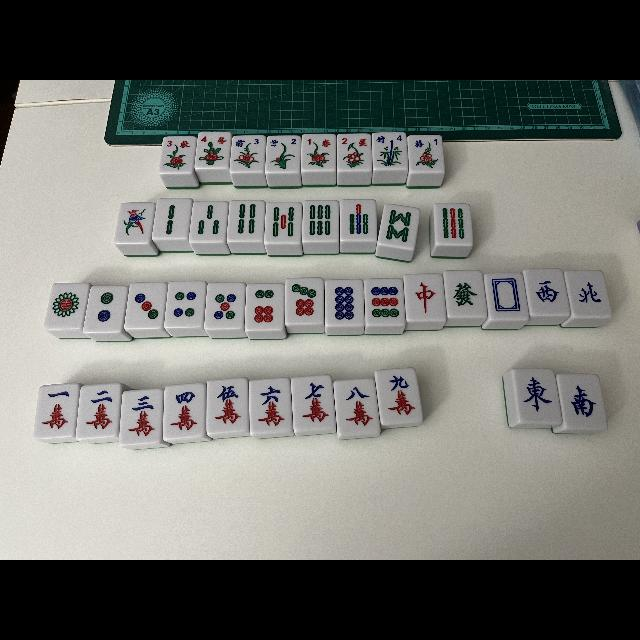b1: (116, 202, 152, 242)
b2: (154, 199, 190, 239)
b3: (190, 202, 226, 242)
b4: (226, 201, 264, 241)
b5: (265, 202, 301, 244)
b6: (304, 200, 338, 242)
b7: (340, 200, 376, 240)
b8: (380, 204, 418, 248)
b9: (433, 202, 472, 245)
c1: (36, 385, 76, 437)
c2: (80, 385, 120, 439)
c3: (121, 390, 162, 442)
c4: (164, 384, 206, 438)
c5: (206, 380, 248, 432)
c6: (249, 378, 291, 434)
c7: (291, 375, 335, 429)
c8: (334, 378, 380, 436)
c9: (376, 368, 422, 424)
d1: (44, 283, 86, 329)
d2: (86, 286, 124, 332)
d3: (126, 284, 164, 328)
d4: (165, 282, 203, 326)
d5: (204, 284, 246, 328)
d6: (246, 284, 282, 330)
d7: (286, 280, 324, 324)
d8: (324, 280, 364, 326)
d9: (366, 278, 404, 326)
dg: (444, 271, 486, 317)
dr: (404, 274, 446, 320)
dw: (484, 274, 528, 320)
f1: (408, 136, 446, 150)
f2: (265, 138, 299, 150)
f3: (230, 136, 264, 150)
f4: (372, 134, 408, 146)
s1: (301, 136, 335, 150)
s2: (336, 136, 372, 150)
s3: (162, 136, 194, 152)
s4: (196, 132, 230, 146)
we: (514, 368, 560, 424)
wn: (564, 271, 612, 317)
ws: (557, 375, 607, 429)
ww: (524, 269, 570, 315)
